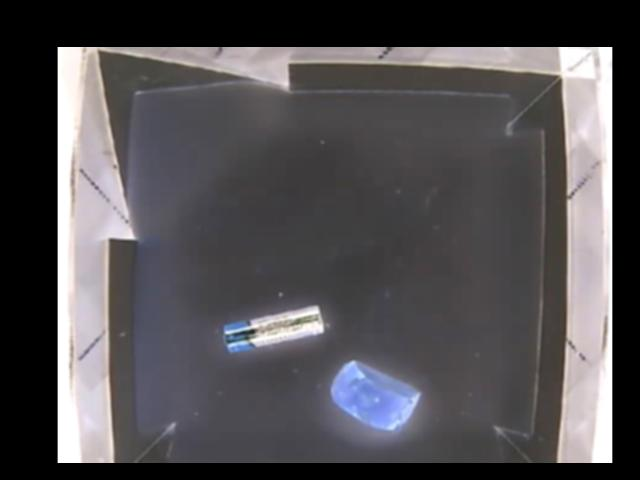Battery: (218, 306, 324, 353)
Potato: (328, 360, 420, 431)
